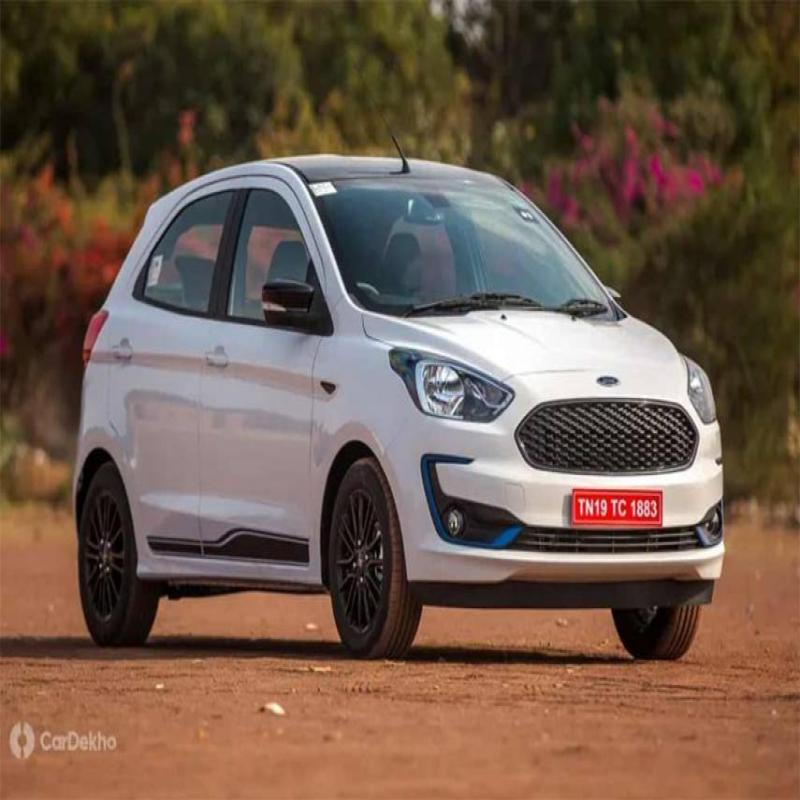car: (82, 92, 724, 669)
